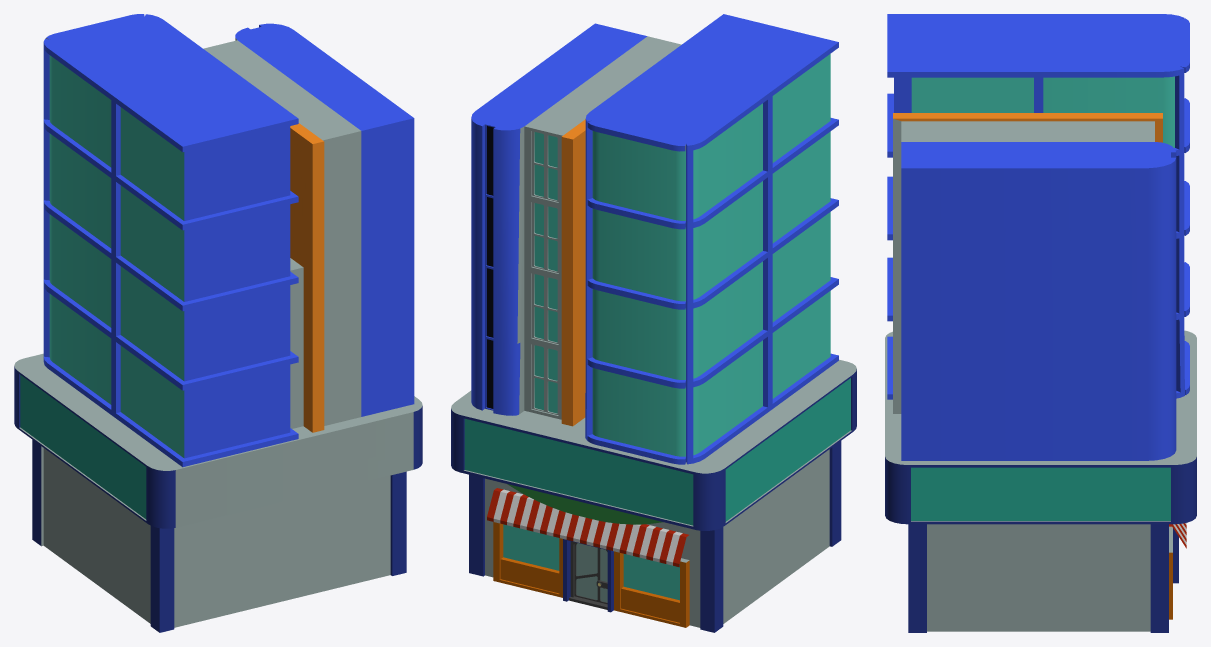
Rendered from Himik_Street_Pichi-Pichi_Store.fbx.
3 views of the same model, side by side, from view 1: azimuth 30°, elevation 25°; view 2: azimuth 150°, elevation 25°; view 3: azimuth 270°, elevation 25° (orthographic). The views are drawn at different scales.
Visible parts, largest first — view 1: Body; view 2: Body, Main_Door.001; view 3: Body.
Boxes of the visible parts, x1,y1,x2,y2 form: Body: [14, 14, 422, 632]; Body: [451, 14, 856, 632]; Main_Door.001: [569, 541, 607, 609]; Body: [885, 14, 1196, 632].
Bounding box in the file's own units: 2031 × 1972 × 3505.
Materials: 3 (3 with a texture image).
